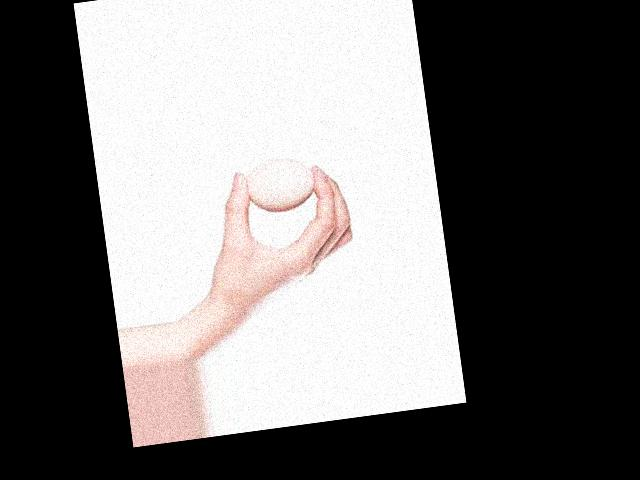egg: (243, 154, 318, 215)
